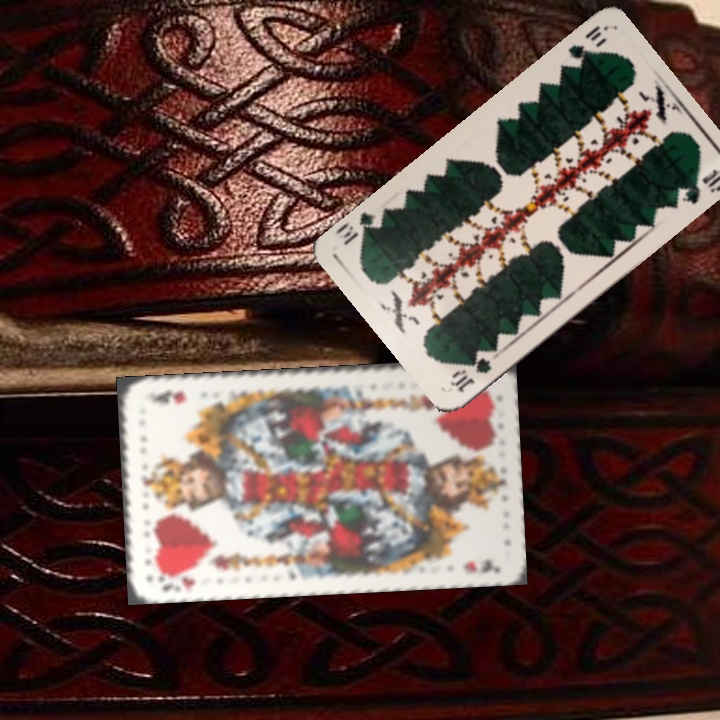G10: (445, 353, 494, 395), (564, 21, 608, 64)
HK: (153, 566, 198, 594)
